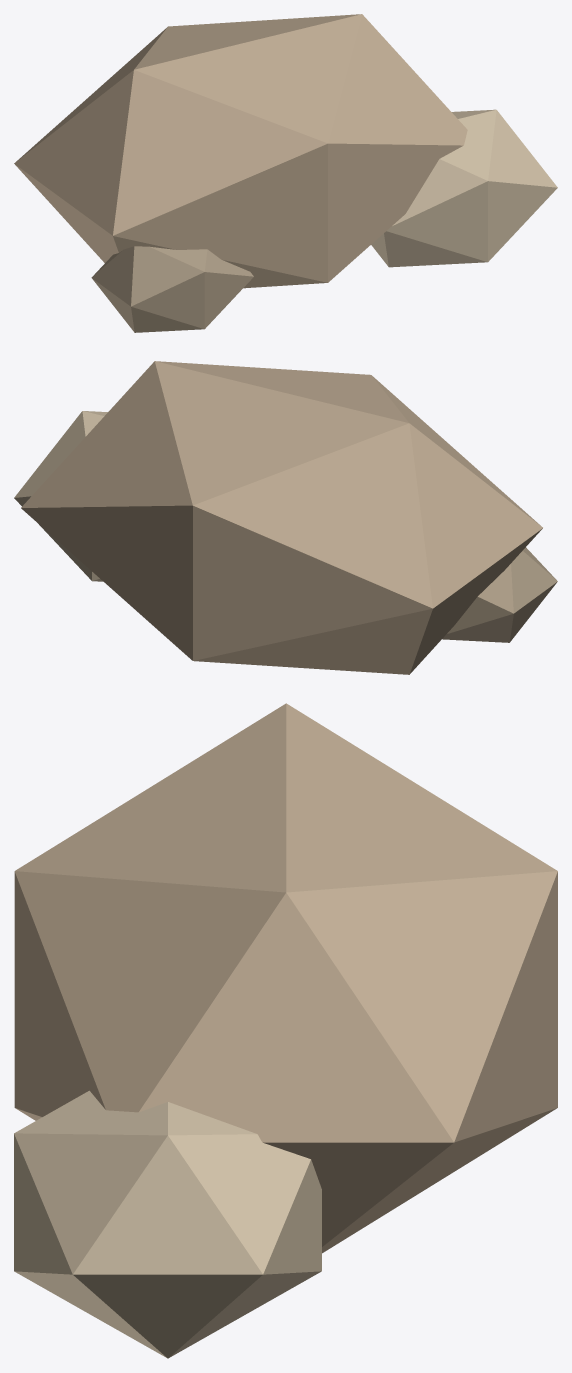
Rendered from rocks.glb.
3 renders of one model, top to bottom at view 1: azimuth 30°, elevation 25°; view 2: azimuth 150°, elevation 25°; view 3: azimuth 270°, elevation 25°, orthographic. The views are drawn at different scales.
Visible parts, largest first — view 1: surface_#bca991, surface_#cbbca3, surface_#aa9b85; view 2: surface_#bca991, surface_#aa9b85, surface_#cbbca3; view 3: surface_#bca991, surface_#cbbca3.
Part boxes in pixels (x1=…): surface_#bca991: x1=14, y1=14, x2=467, y2=288; surface_#cbbca3: x1=371, y1=109, x2=557, y2=267; surface_#aa9b85: x1=91, y1=246, x2=253, y2=332; surface_#bca991: x1=21, y1=361, x2=542, y2=674; surface_#aa9b85: x1=442, y1=547, x2=557, y2=642; surface_#cbbca3: x1=14, y1=411, x2=107, y2=581; surface_#bca991: x1=14, y1=703, x2=557, y2=1253; surface_#cbbca3: x1=14, y1=1090, x2=321, y2=1358.
Size of the model in its own units: 1.43 by 0.7155 by 0.9197.
